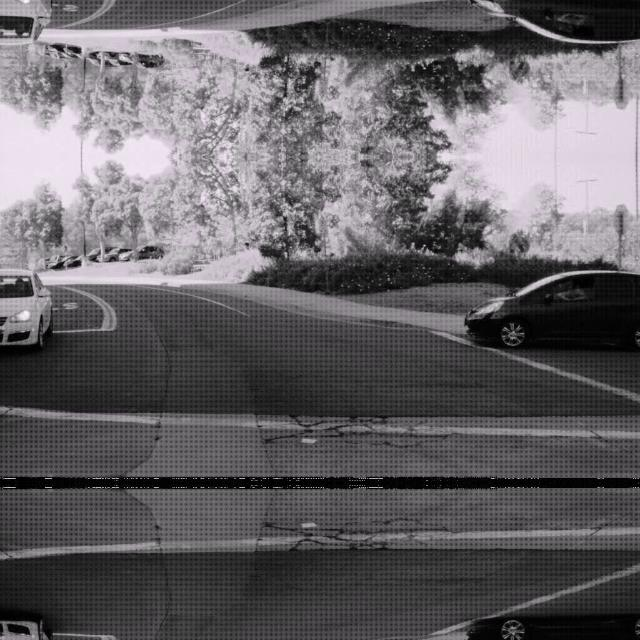pedestrianCrossing: (57, 240, 73, 254), (57, 58, 73, 72)
